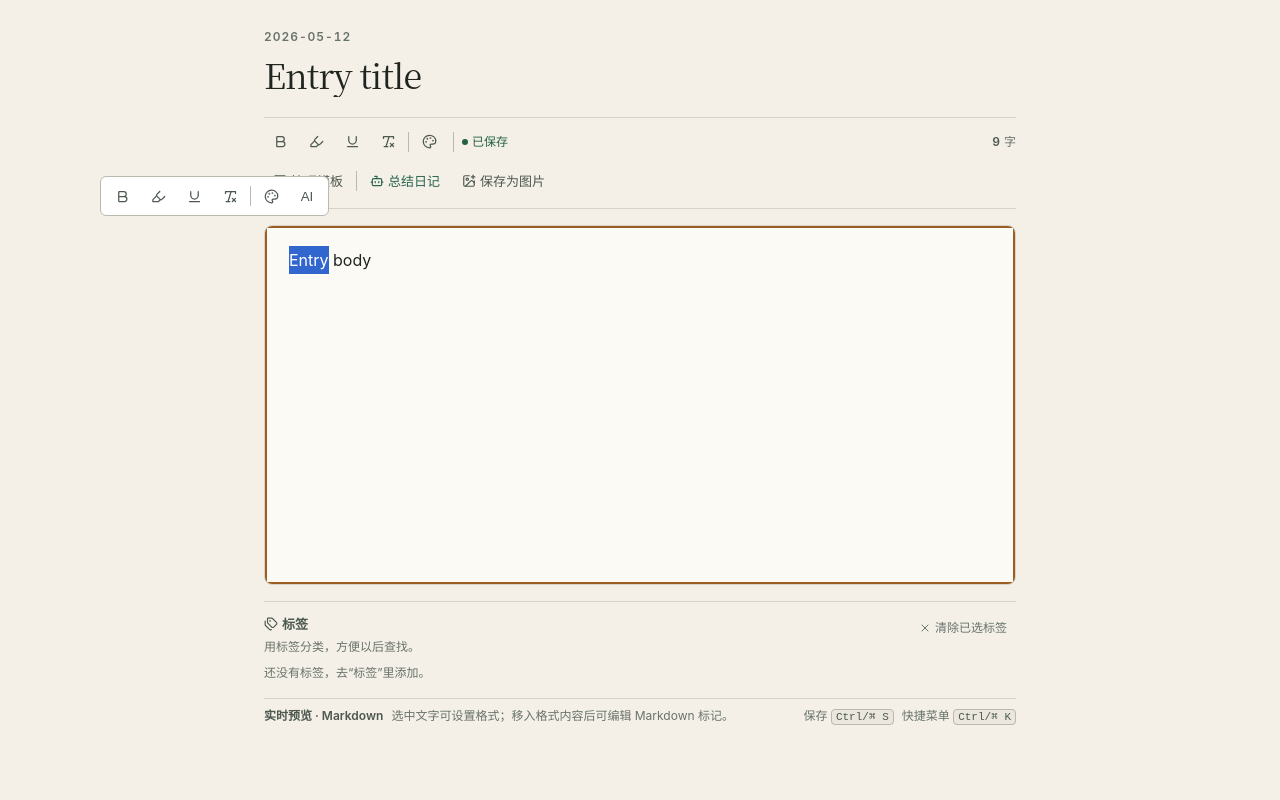
Scenario: Editor AI selection polish › discards an edited candidate without changing the diary or dirty state
This screenshot has width=1280, height=800.
Click the button with aria-label "AI 润色": (307, 196) top-left (291, 180), bottom-right (323, 212)
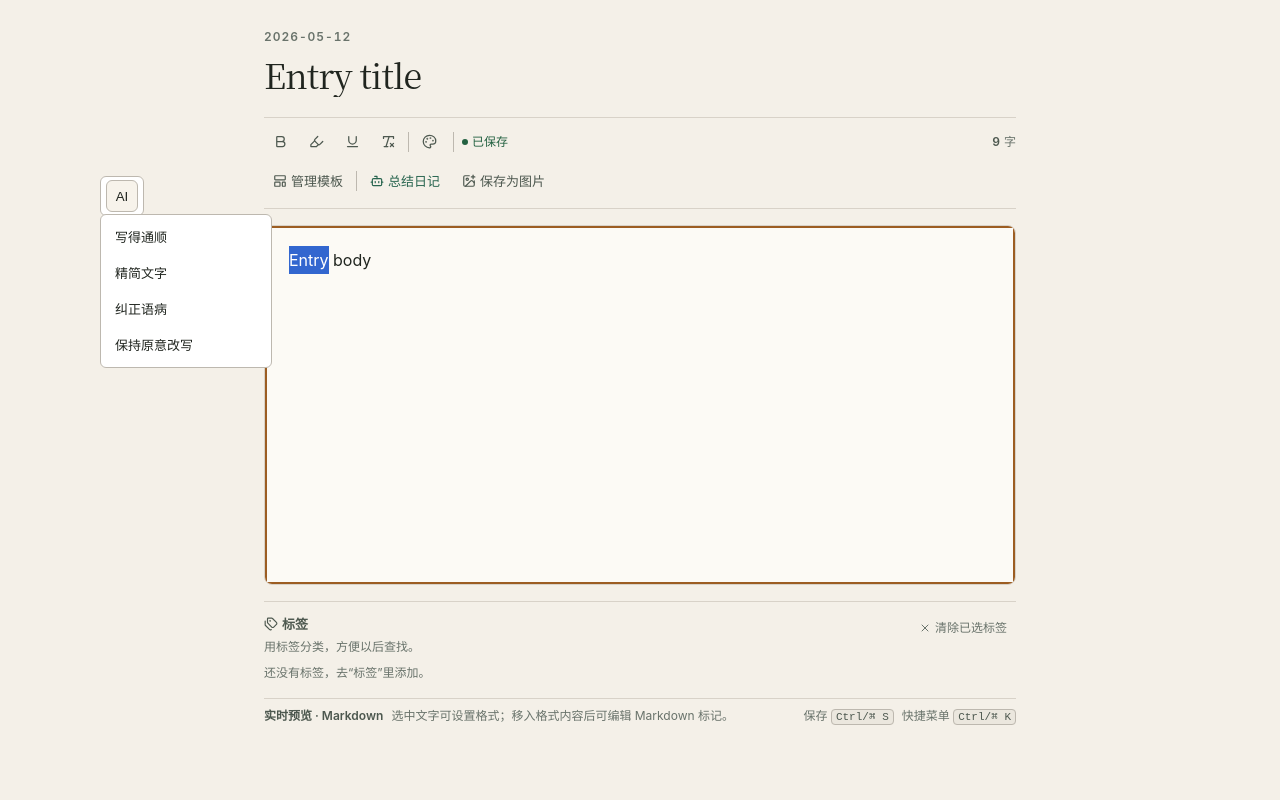
Click the button "写得通顺": (186, 237) top-left (105, 219), bottom-right (267, 255)
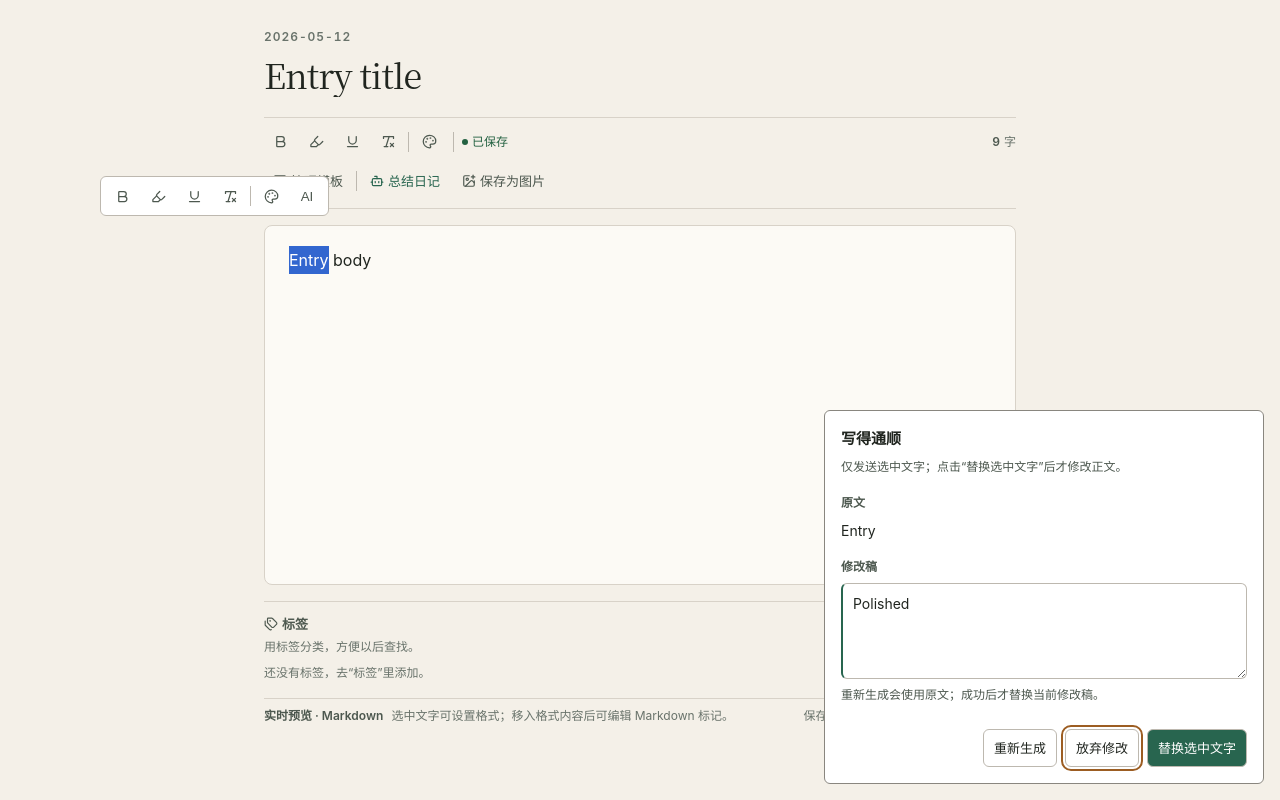
Replace the text in the text box named "修改稿" with "Discarded edit": (1044, 631) top-left (841, 583), bottom-right (1247, 679)
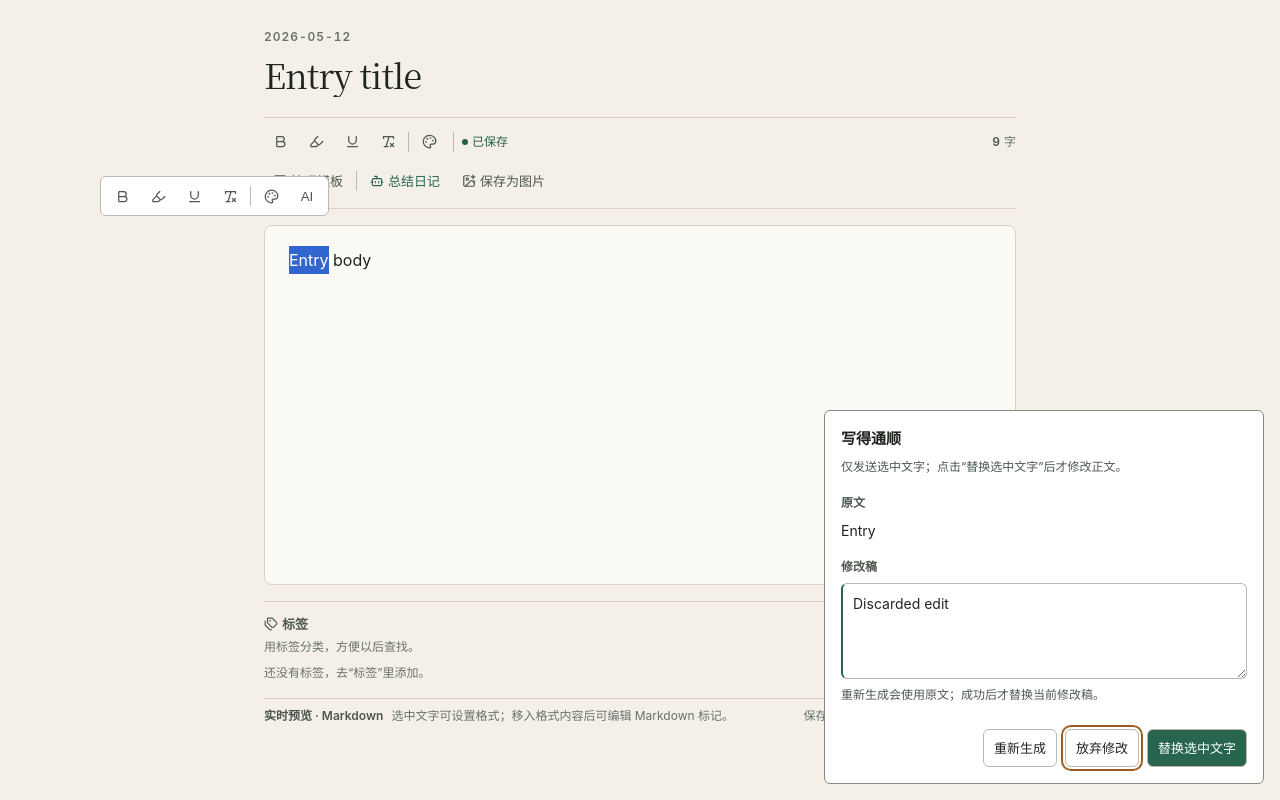
Click the button "放弃修改": (1102, 748) top-left (1065, 729), bottom-right (1139, 767)
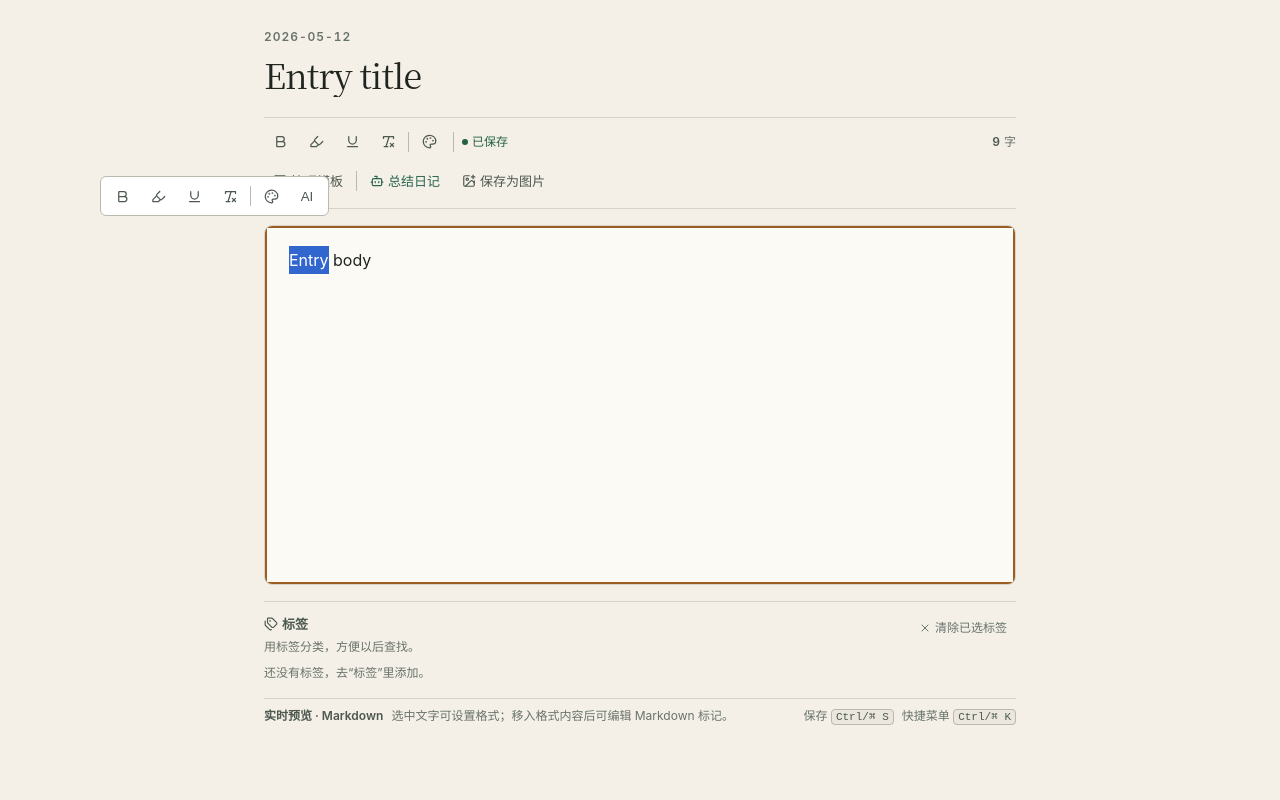
Expected: the text box labelled "Entry body" is shown, top-left (289, 250), bottom-right (371, 270)
Expected: the text box labelled "AI 修改稿" is gone
